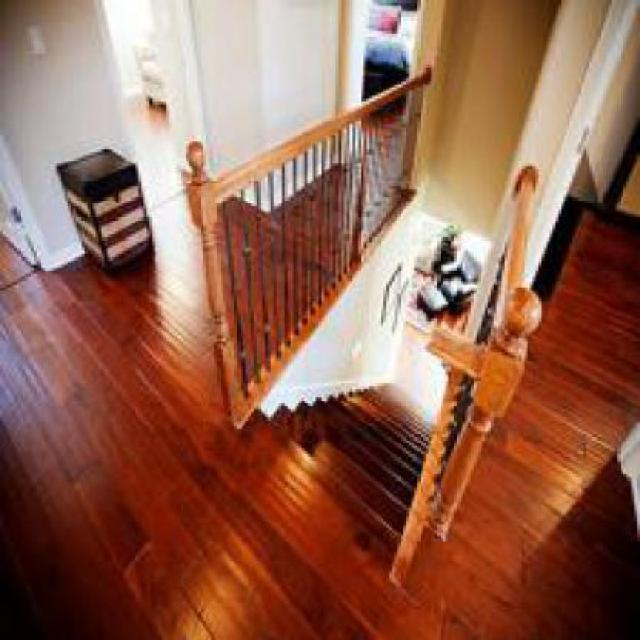stair: (260, 346, 446, 545)
